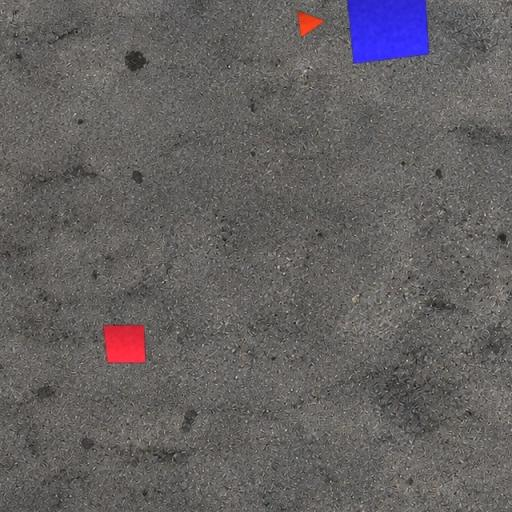BLUE_SQUARE: (346, 0, 430, 65)
RED_SQUARE: (102, 324, 146, 364)
